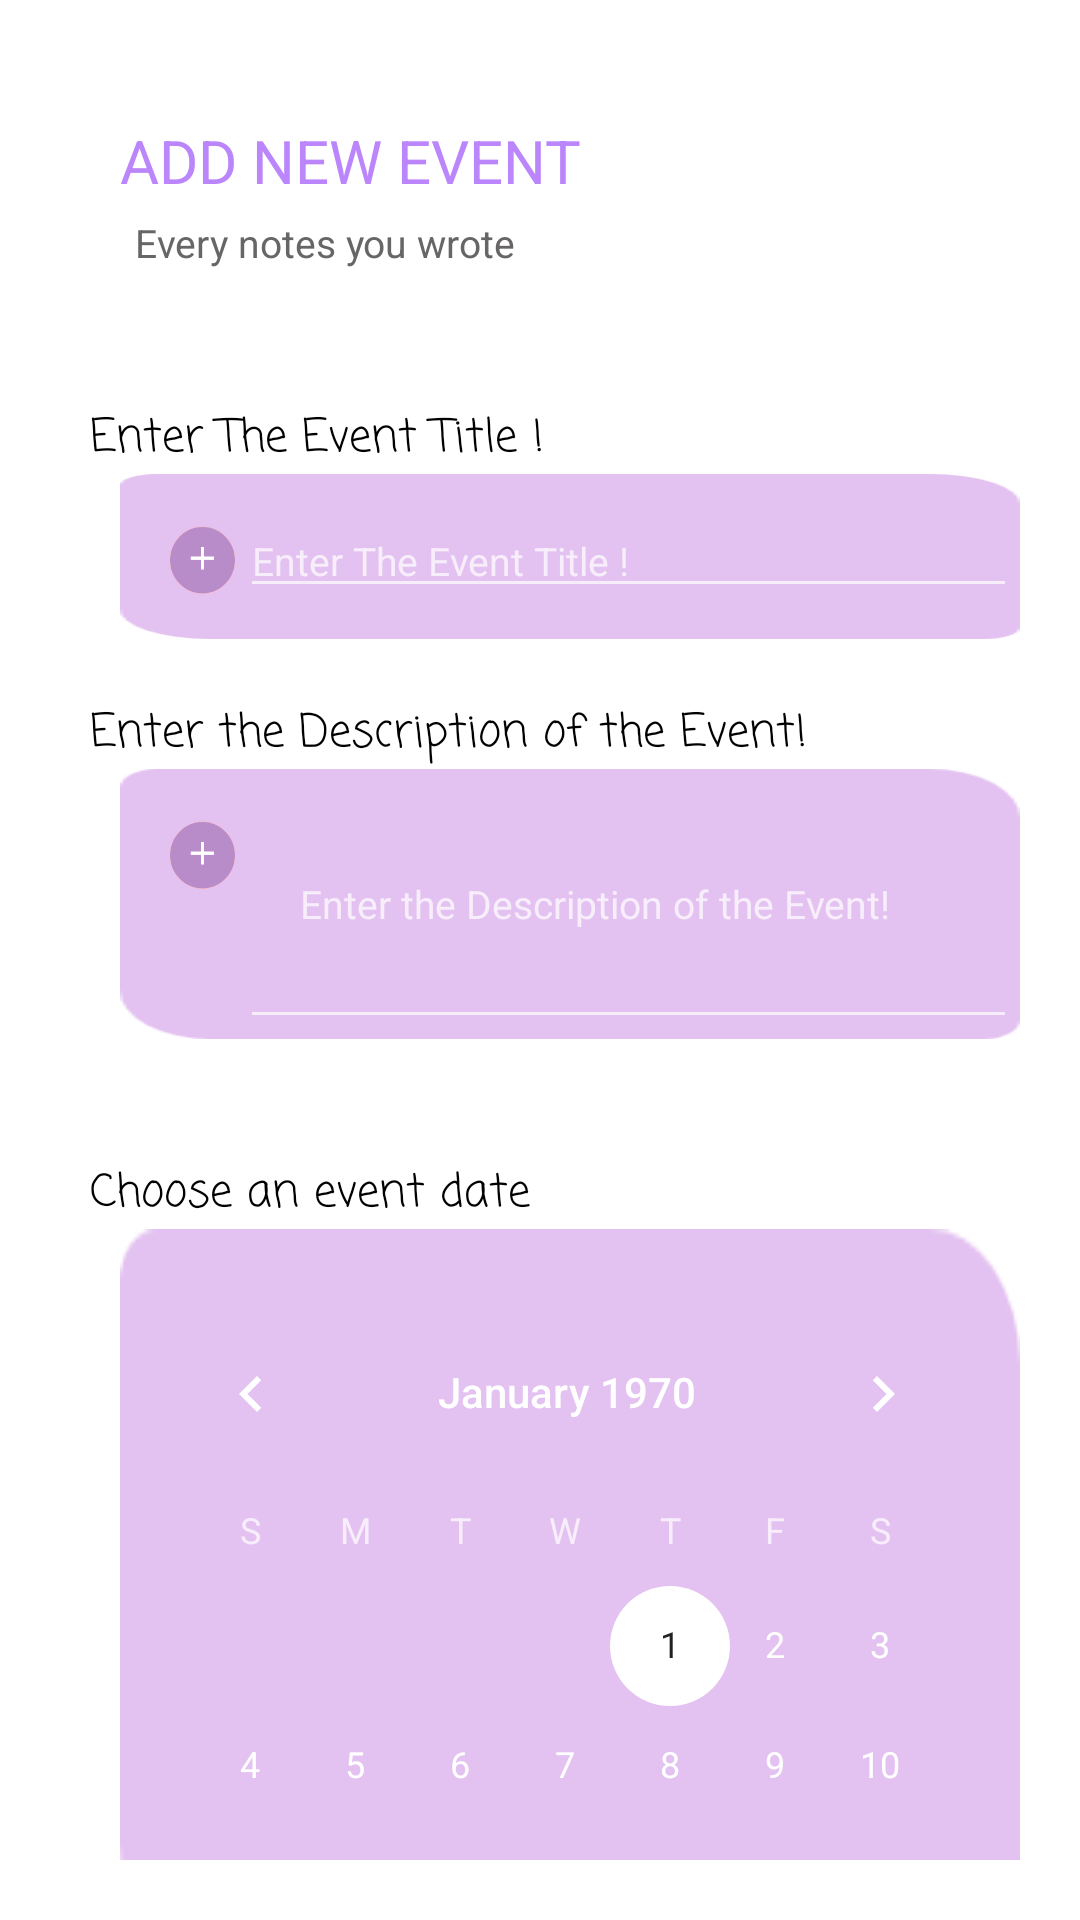

Where icons sit on this 1080 x 1920 app screen, as (x1, y1, x2, y2):
add note: (170, 526, 235, 594), (170, 821, 235, 889)
